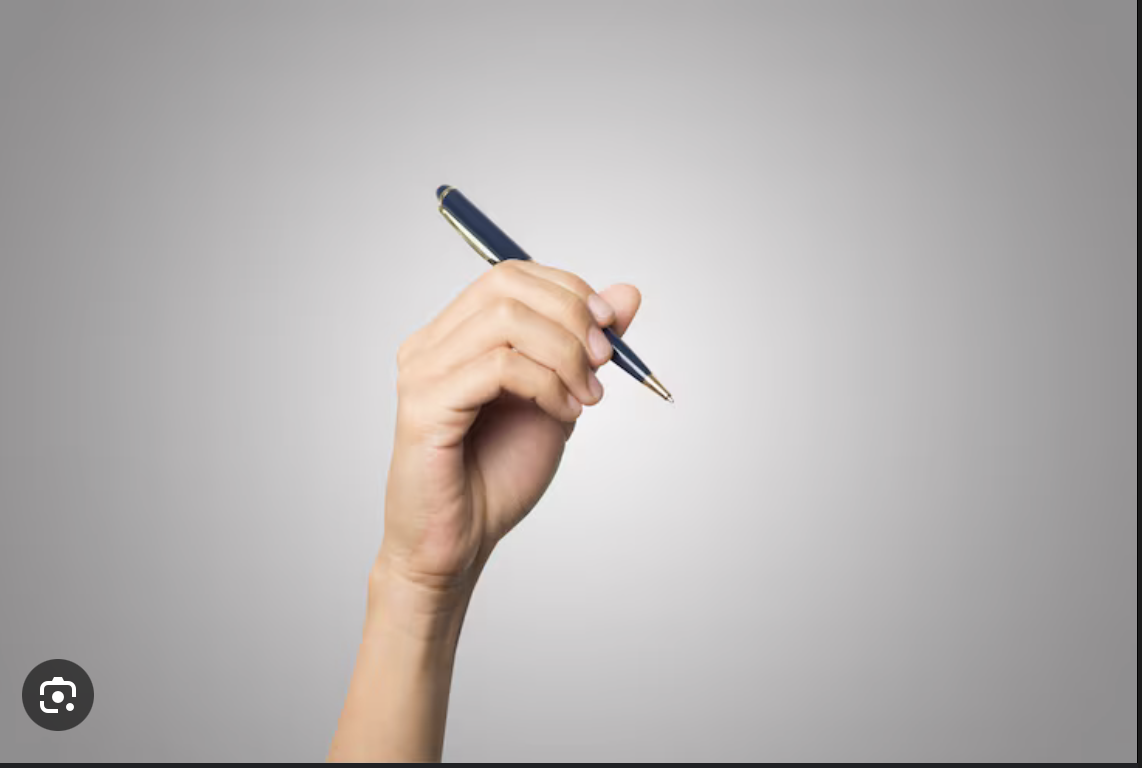pen: (438, 181, 679, 412)
